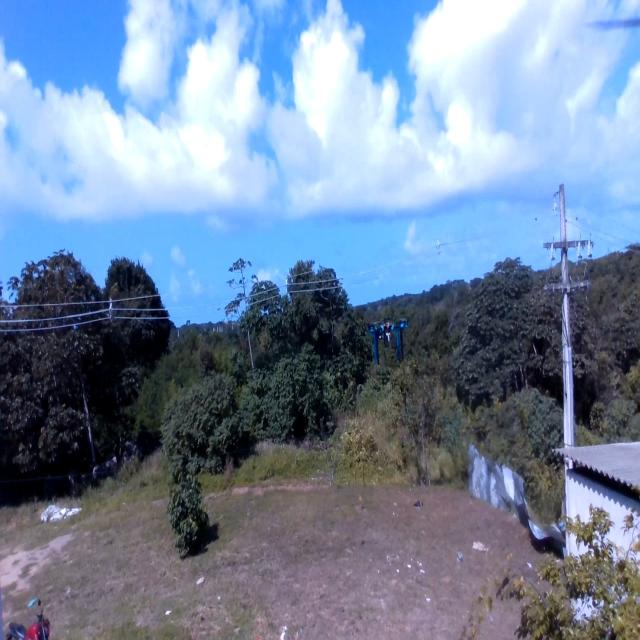-uav-: (362, 305, 424, 378)
